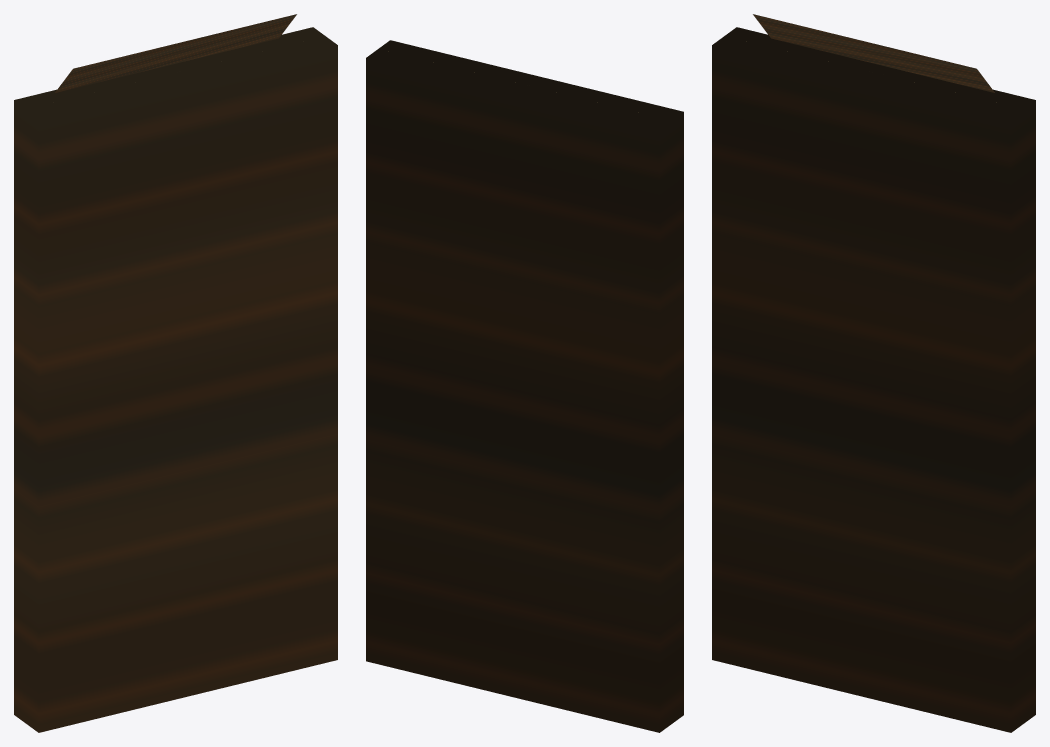
Rendered from trap_t14_booby_trapped_door.glb.
The picture shows the model from 3 angles, left to right: view 1: azimuth 30°, elevation 25°; view 2: azimuth 150°, elevation 25°; view 3: azimuth 330°, elevation 25°; orthographic projection.
Visible parts, largest first — view 1: trap_t14_booby_trapped_door; view 2: trap_t14_booby_trapped_door; view 3: trap_t14_booby_trapped_door.
Part boxes in pixels (<box>): trap_t14_booby_trapped_door: <box>14,14,337,732</box>; trap_t14_booby_trapped_door: <box>366,40,683,732</box>; trap_t14_booby_trapped_door: <box>712,14,1035,732</box>.
Bounding box in the file's own units: 1.12 × 2.34 × 0.16.
Materials: 1 (1 with a texture image).
